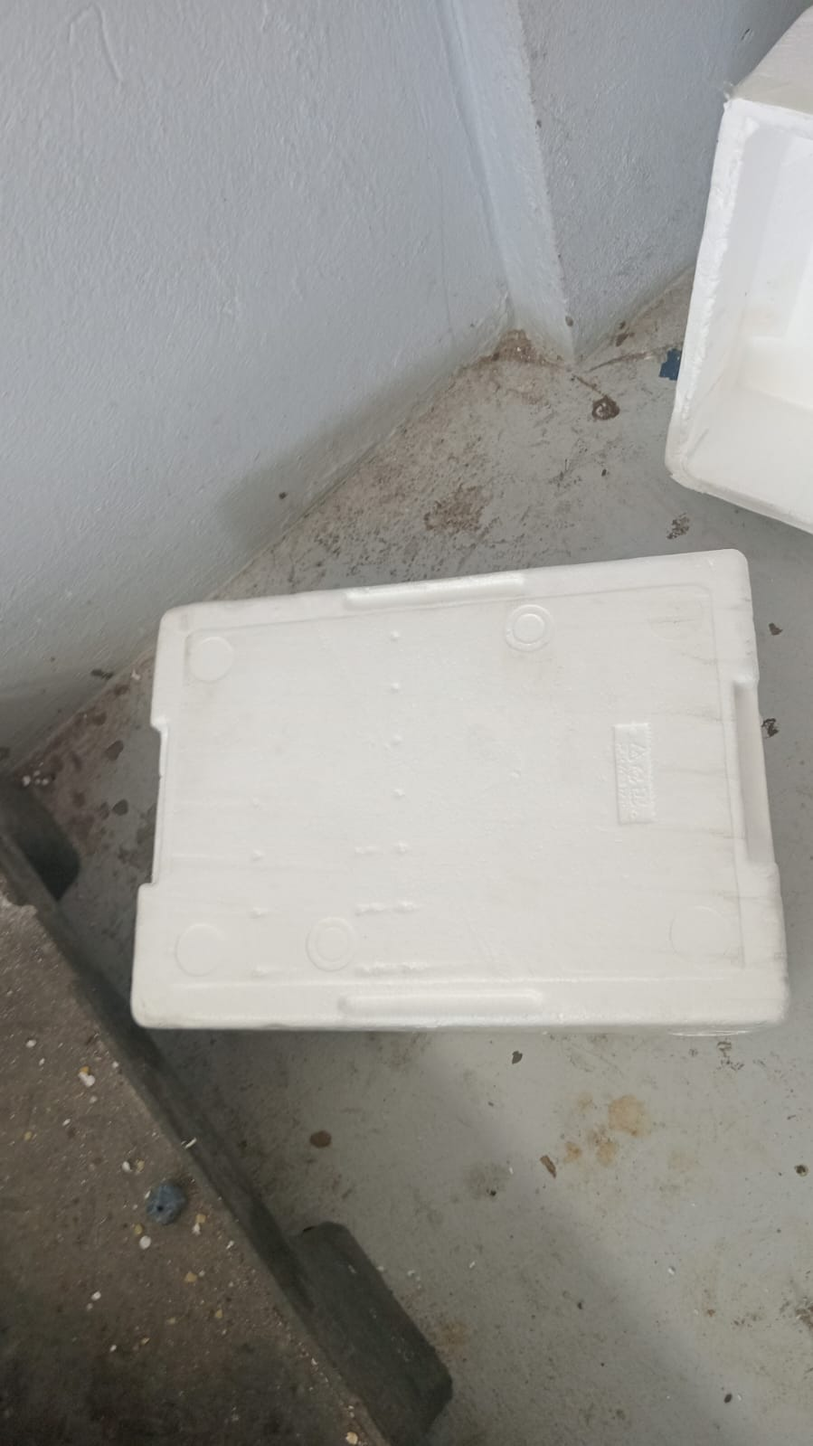Ordinario: (127, 547, 803, 1035), (664, 6, 813, 538)
